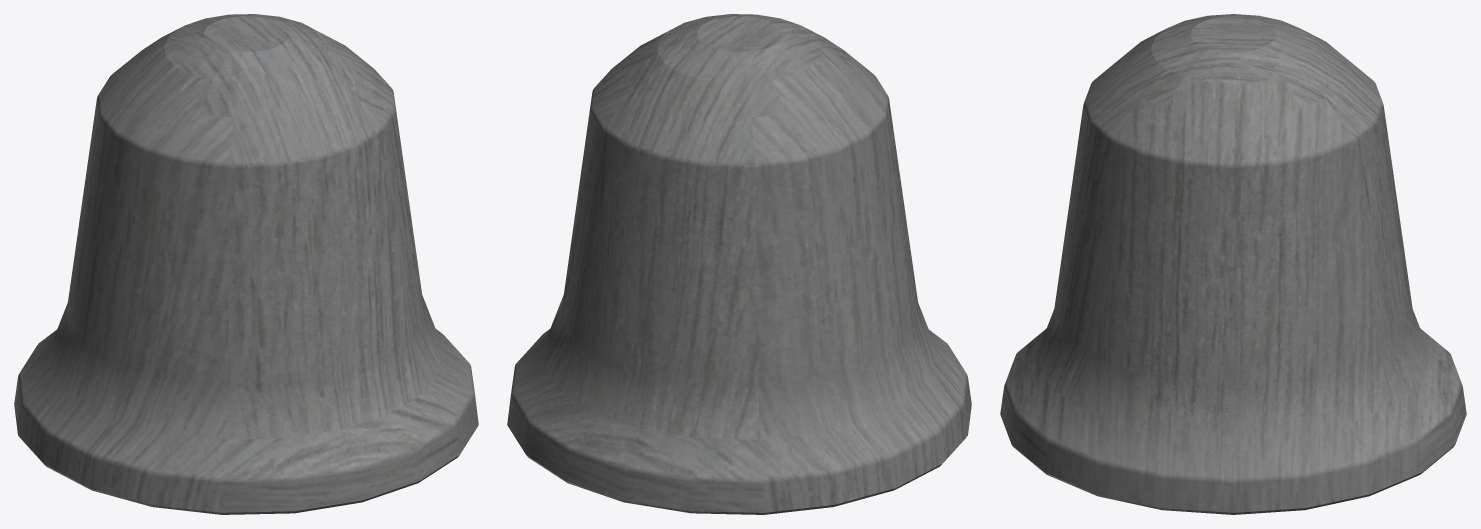
File: WoodBell.obj
3 views of the same model, side by side, from view 1: azimuth 30°, elevation 25°; view 2: azimuth 150°, elevation 25°; view 3: azimuth 270°, elevation 25° (orthographic).
Visible parts, largest first — view 1: pCylinder1; view 2: pCylinder1; view 3: pCylinder1.
Boxes of the visible parts, x1,y1,x2,y2 form: pCylinder1: (14, 14, 478, 514); pCylinder1: (507, 14, 971, 514); pCylinder1: (1000, 14, 1466, 514).
Bounding box in the file's own units: 2.58 × 2.61 × 2.58.
Materials: 1 (1 with a texture image).
